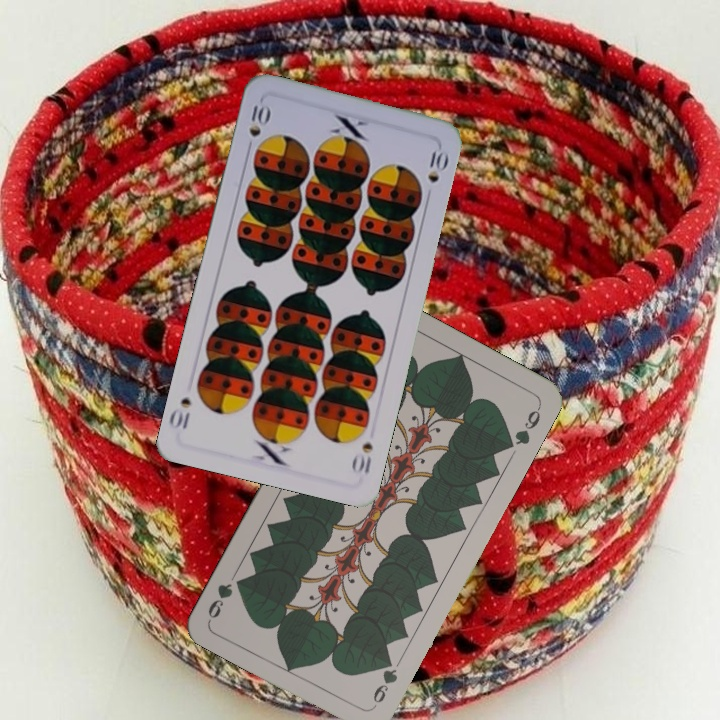G9: (369, 653, 400, 711)
S10: (242, 100, 273, 155), (348, 438, 375, 476)
